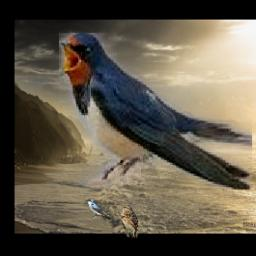Sparrow: (119, 205, 138, 239)
Swallow: (59, 33, 252, 189), (86, 200, 114, 220)
